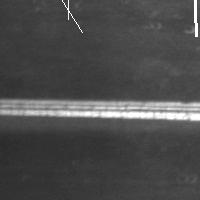scratches: (1, 90, 199, 124), (35, 0, 87, 37), (188, 0, 200, 41), (63, 0, 74, 24)
